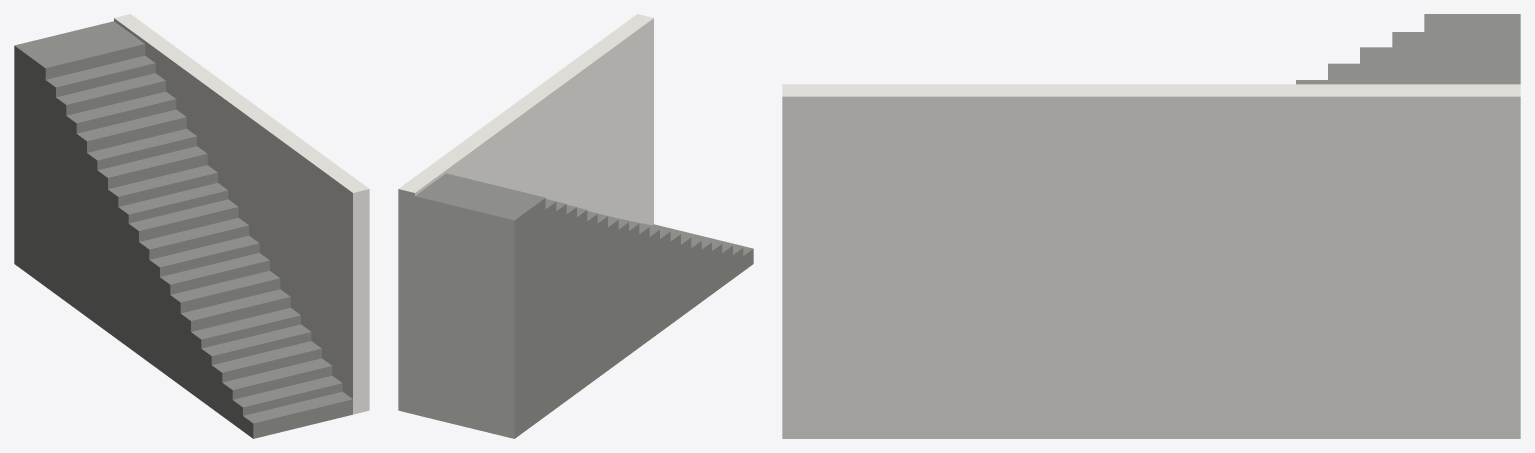
Rendered from Escalera_Edificio3(con FBX).fbx.
3 views of the same model, side by side, from view 1: azimuth 30°, elevation 25°; view 2: azimuth 150°, elevation 25°; view 3: azimuth 270°, elevation 25° (orthographic). The views are drawn at different scales.
Parts seen in each view (by area): view 1: pasted__pCube3; view 2: pasted__pCube3; view 3: pasted__pCube3.
Part boxes in pixels (left/top/right/bottom): pasted__pCube3: left=14, top=14, right=369, bottom=438; pasted__pCube3: left=398, top=14, right=753, bottom=438; pasted__pCube3: left=782, top=14, right=1520, bottom=438.
Bounding box in the file's own units: 2.95 × 5.37 × 10.5.
